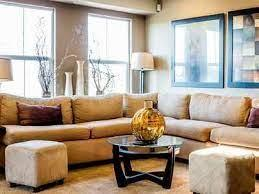chair: (190, 146, 255, 194), (4, 141, 70, 188)
light: (126, 50, 156, 95), (0, 54, 14, 91)
sofa: (0, 94, 259, 170)
table: (109, 136, 180, 189)
